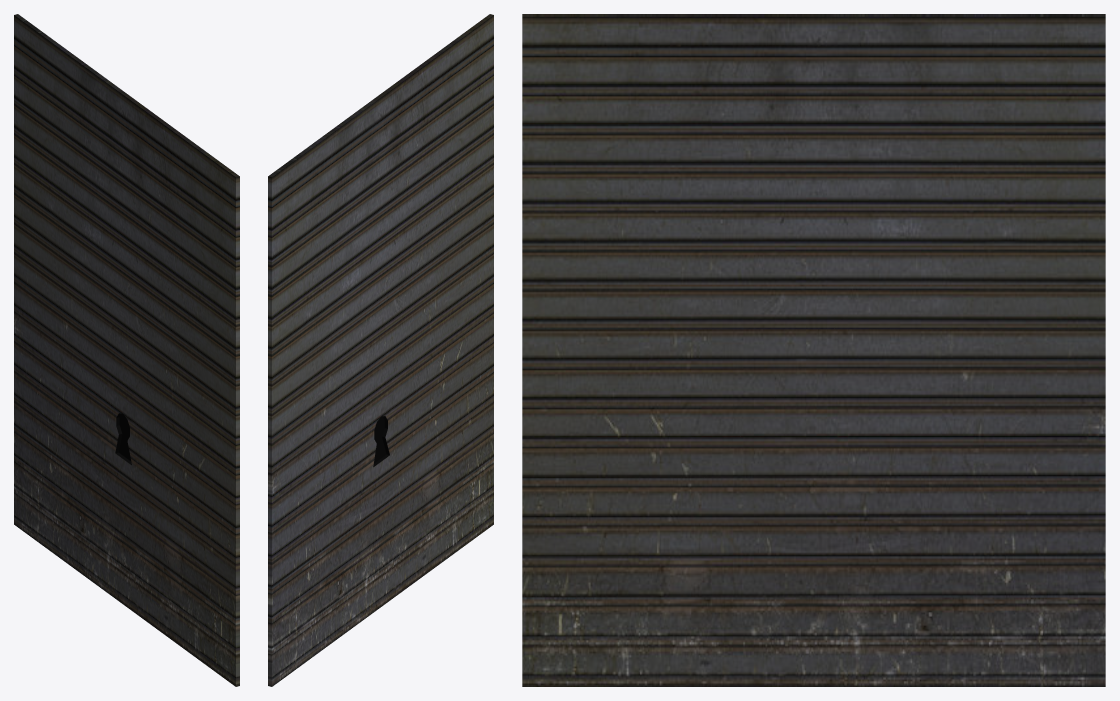
Rendered from shutter.fbx.
3 views of the same model, side by side, from view 1: azimuth 30°, elevation 25°; view 2: azimuth 150°, elevation 25°; view 3: azimuth 270°, elevation 25° (orthographic). The views are drawn at different scales.
Parts seen in each view (by area): view 1: pasted__pasted__polySurface2; view 2: pasted__pasted__polySurface2; view 3: pasted__pasted__polySurface2.
Part boxes in pixels (x1,y1,x2,y2): pasted__pasted__polySurface2: (14, 14, 239, 686); pasted__pasted__polySurface2: (268, 14, 493, 686); pasted__pasted__polySurface2: (522, 14, 1105, 686).
Bounding box in the file's own units: 0.1847 × 22.91 × 18.07.
2 materials, 1 textured.
